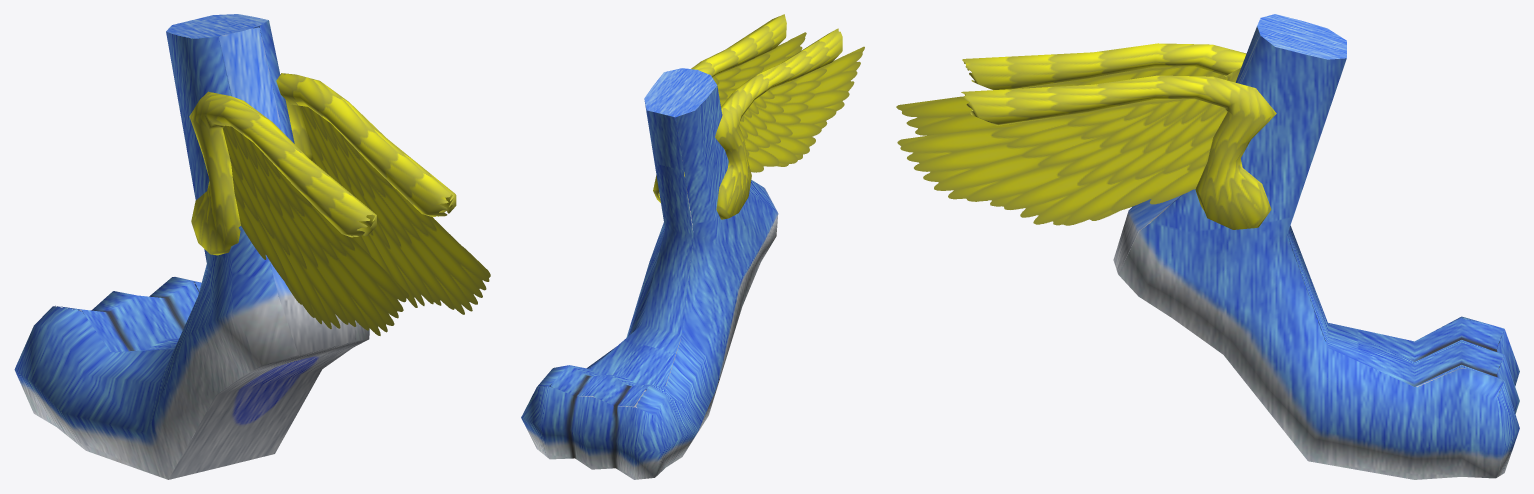
File: Env_PowerUp_Double_Speed.fbx
3 views of the same model, side by side, from view 1: azimuth 30°, elevation 25°; view 2: azimuth 150°, elevation 25°; view 3: azimuth 270°, elevation 25° (orthographic). The views are drawn at different scales.
Visible parts, largest first — view 1: Speed_Icon; view 2: Speed_Icon; view 3: Speed_Icon.
Part boxes in pixels (x1=…): Speed_Icon: x1=14, y1=14, x2=490, y2=479; Speed_Icon: x1=521, y1=14, x2=864, y2=479; Speed_Icon: x1=896, y1=14, x2=1519, y2=479.
Size of the model in its own units: 1.26 by 2.69 by 3.67.
1 material, 1 textured.
